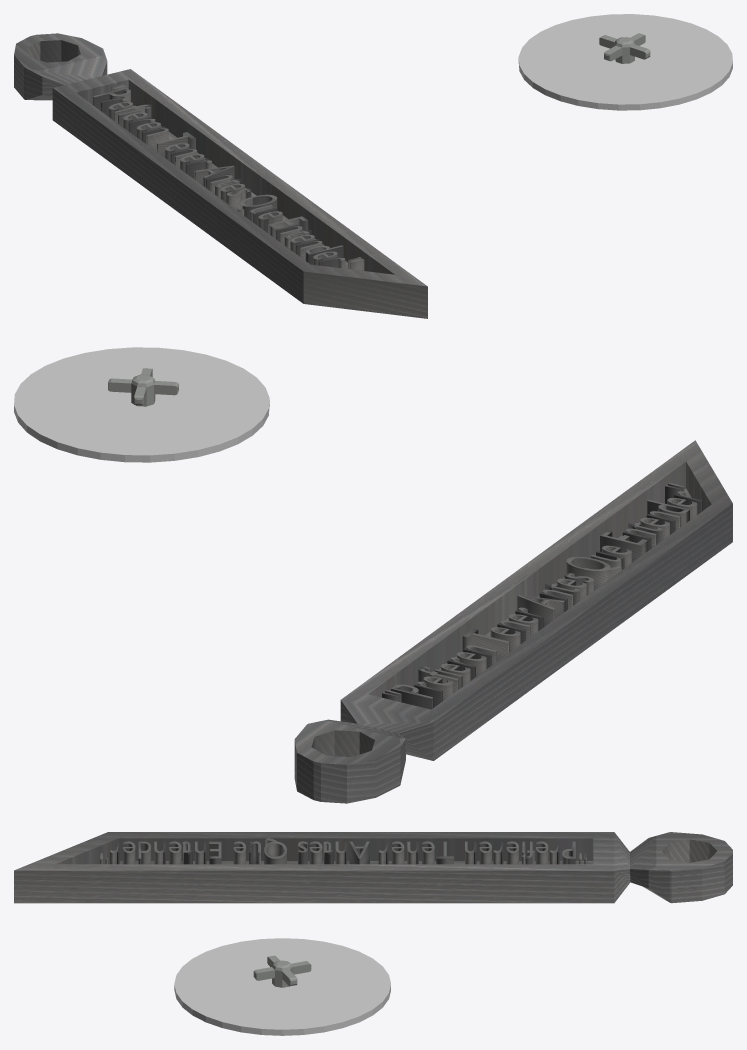
Rendered from Objetos1.fbx.
3 renders of one model, top to bottom at view 1: azimuth 30°, elevation 25°; view 2: azimuth 150°, elevation 25°; view 3: azimuth 270°, elevation 25°, orthographic. The views are drawn at different scales.
Parts seen in each view (by area): view 1: Tener Entender, Antiruleta; view 2: Tener Entender, Antiruleta; view 3: Tener Entender, Antiruleta.
Boxes of the visible parts, x1,y1,x2,y2 form: Tener Entender: (14,33,427,318); Antiruleta: (518,14,732,110); Tener Entender: (294,440,732,803); Antiruleta: (14,347,269,462); Tener Entender: (14,832,732,903); Antiruleta: (174,938,390,1035).
Bounding box in the file's own units: 540 × 104 × 663.
